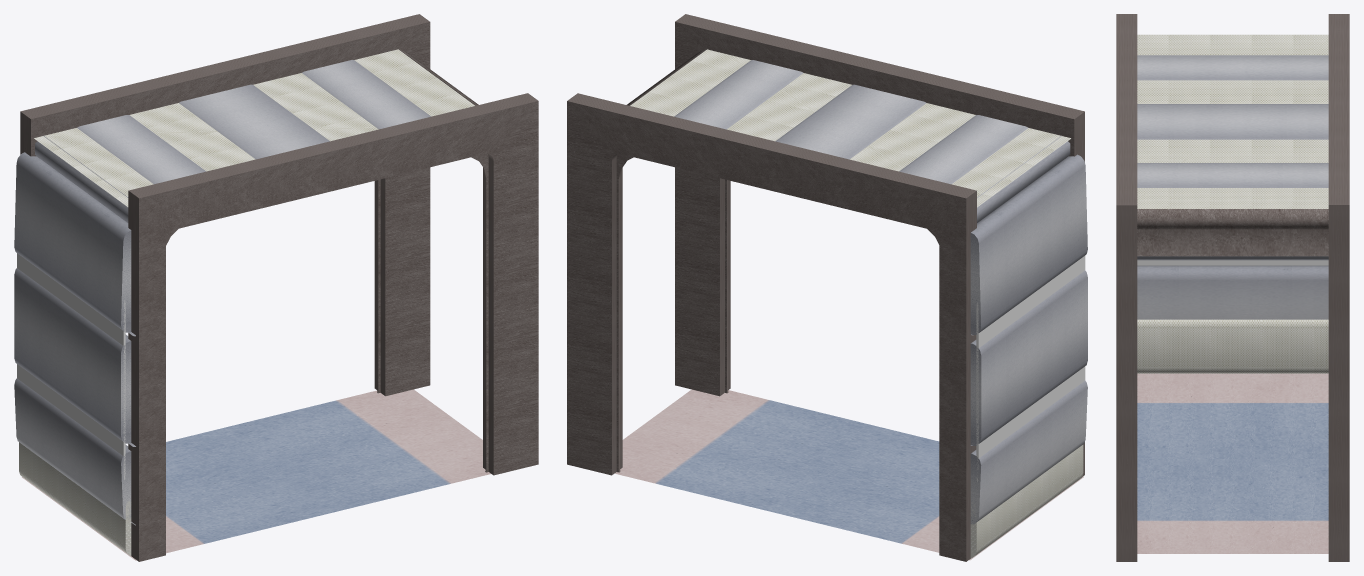
Rendered from CorridorDoorAlcove.FBX.
3 views of the same model, side by side, from view 1: azimuth 30°, elevation 25°; view 2: azimuth 150°, elevation 25°; view 3: azimuth 270°, elevation 25° (orthographic).
Visible parts, largest first — view 1: Box194, Plane32, Box195, Plane33, ChamferBox75, ChamferBox74, ChamferBox76, ChamferBox53, ChamferBox51, ChamferBox52, ChamferBox77, ChamferBox73 (+3 smaller); view 2: Box195, Plane32, Box194, Plane33, ChamferBox75, ChamferBox74, ChamferBox76, ChamferBox53, ChamferBox51, ChamferBox52, ChamferBox77, ChamferBox73 (+3 smaller); view 3: Plane32, Plane33, Box195, Box194, ChamferBox76, ChamferBox77, Plane34, ChamferBox53, ChamferBox51, ChamferBox52, ChamferBox73, Box193 (+2 smaller).
Part boxes in pixels (box(x1,y1,x2,y2)): Box194: box(128, 93, 538, 561); Plane32: box(22, 389, 490, 560); Box195: box(20, 14, 430, 396); Plane33: box(34, 49, 475, 206); ChamferBox75: box(14, 152, 135, 336); ChamferBox74: box(14, 268, 135, 446); ChamferBox76: box(14, 378, 135, 525); ChamferBox53: box(179, 84, 329, 159); ChamferBox51: box(77, 115, 205, 184); ChamferBox52: box(302, 60, 430, 129); ChamferBox77: box(19, 442, 131, 555); ChamferBox73: box(17, 253, 125, 479); Box195: box(567, 93, 976, 561); Plane32: box(615, 389, 1083, 560); Box194: box(675, 14, 1084, 476); Plane33: box(630, 49, 1070, 207); ChamferBox75: box(970, 154, 1087, 335); ChamferBox74: box(970, 270, 1087, 445); ChamferBox76: box(970, 380, 1087, 524); ChamferBox53: box(775, 84, 926, 159); ChamferBox51: box(899, 115, 1028, 184); ChamferBox52: box(674, 60, 803, 129); ChamferBox77: box(970, 445, 1083, 558); ChamferBox73: box(976, 255, 1085, 482); Plane32: box(1137, 373, 1328, 553); Plane33: box(1137, 34, 1328, 208); Box195: box(1328, 14, 1349, 561); Box194: box(1116, 14, 1137, 561); ChamferBox76: box(1137, 265, 1328, 319); ChamferBox77: box(1137, 319, 1328, 373); Plane34: box(1137, 209, 1328, 256); ChamferBox53: box(1137, 104, 1328, 139); ChamferBox51: box(1137, 55, 1328, 80); ChamferBox52: box(1137, 163, 1328, 187); ChamferBox73: box(1137, 260, 1328, 265); Box193: box(1126, 14, 1127, 561).
Size of the model in its own units: 10.77 by 9.13 by 5.4.
